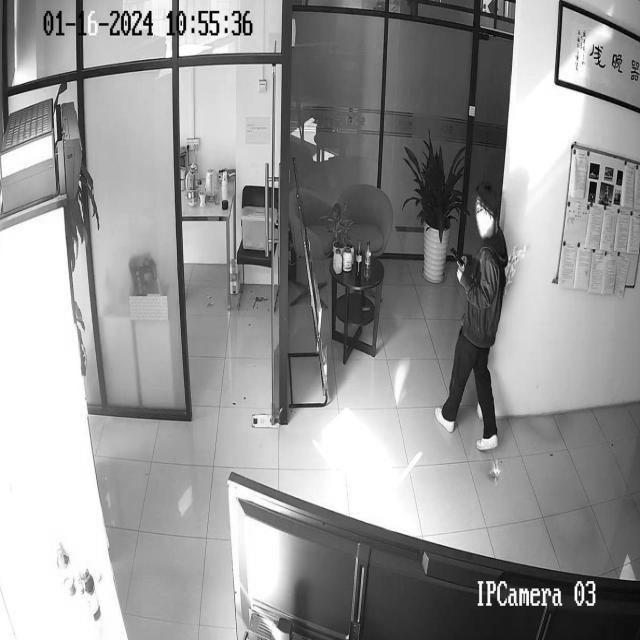smoke: (504, 240, 529, 296), (392, 354, 410, 406), (488, 456, 502, 484)
